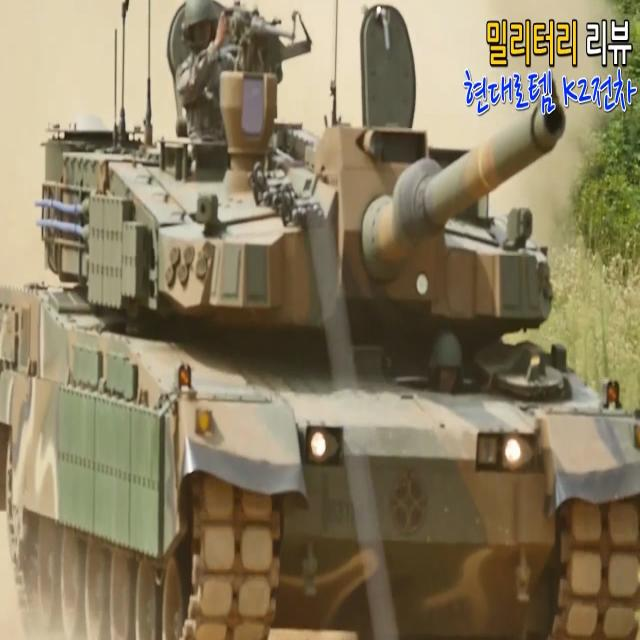korea tank: (1, 1, 640, 638)
